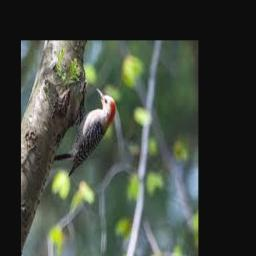Woodpecker: (53, 86, 115, 176)
